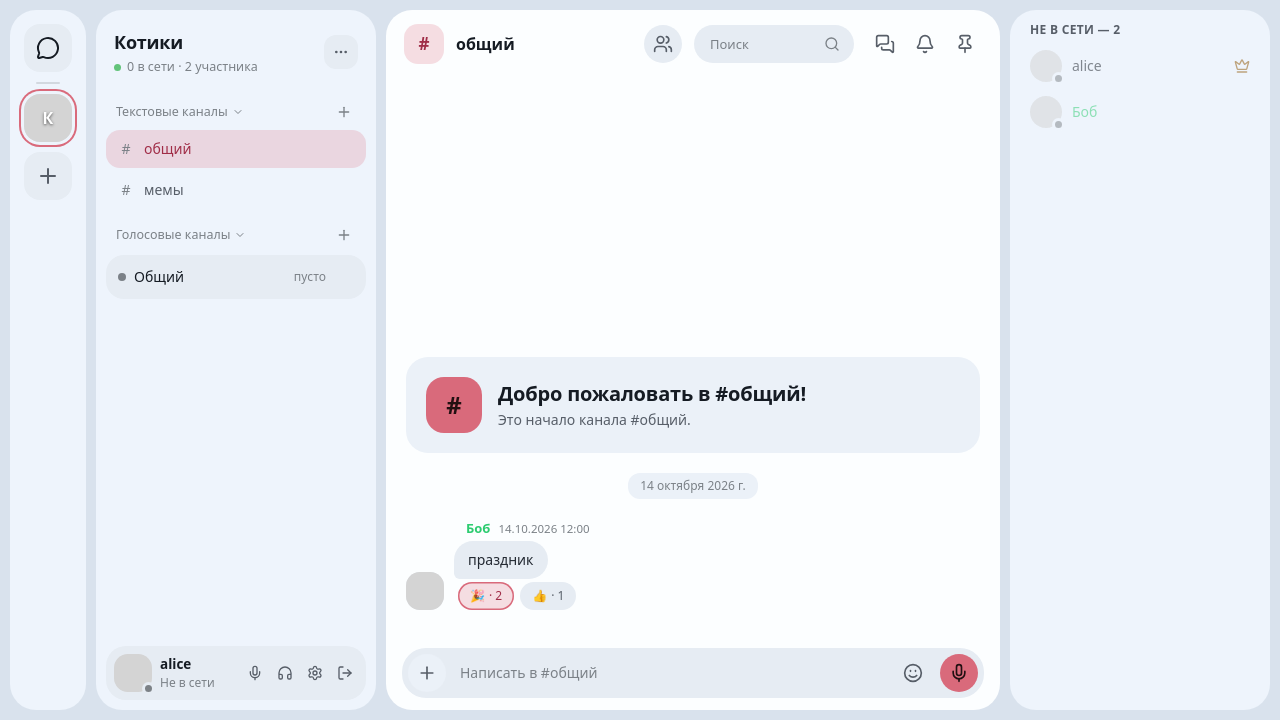
Test: reactions › opens the full picker from the menu, with the quick ones on top
The width and height of the screenshot is (1280, 720).
Check: the text "праздник" is shown, box x1=468 y1=550 x2=534 y2=570
Right-click the list item "праздник" at (498, 564), box x1=406 y1=519 x2=590 y2=610
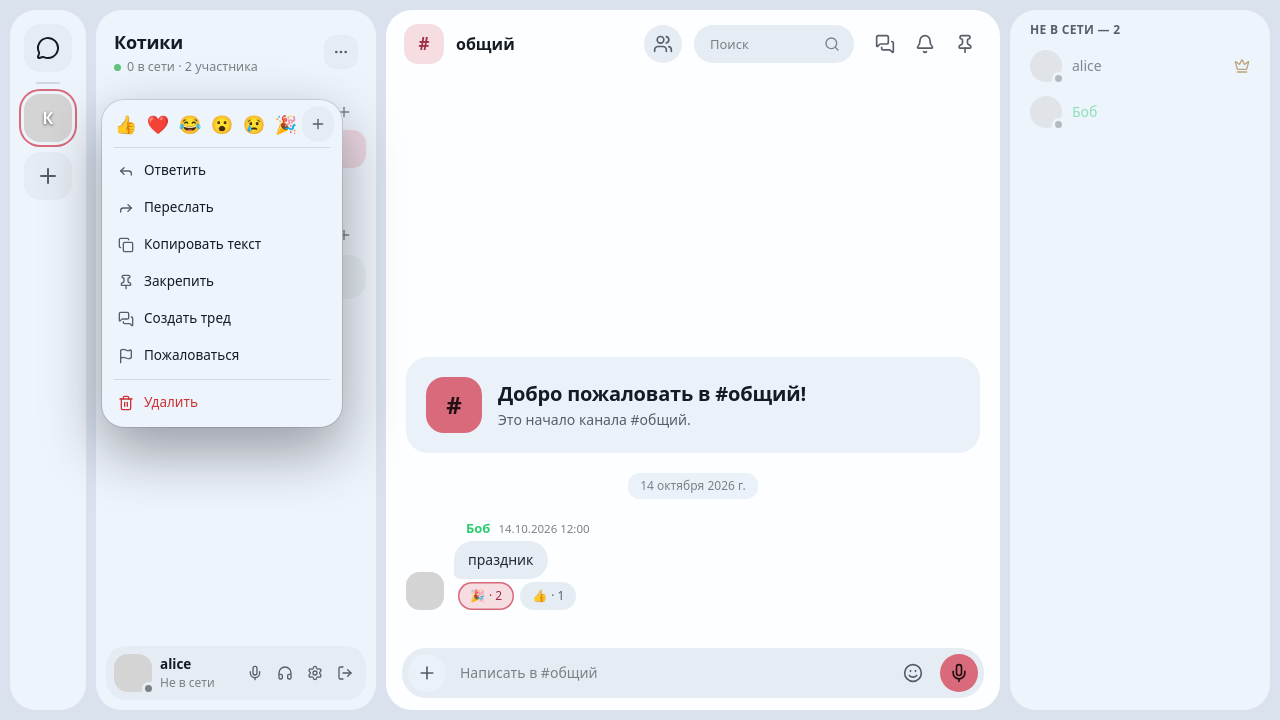
Click the menu item named "Добавить реакцию" at (318, 124), box x1=302 y1=106 x2=334 y2=142
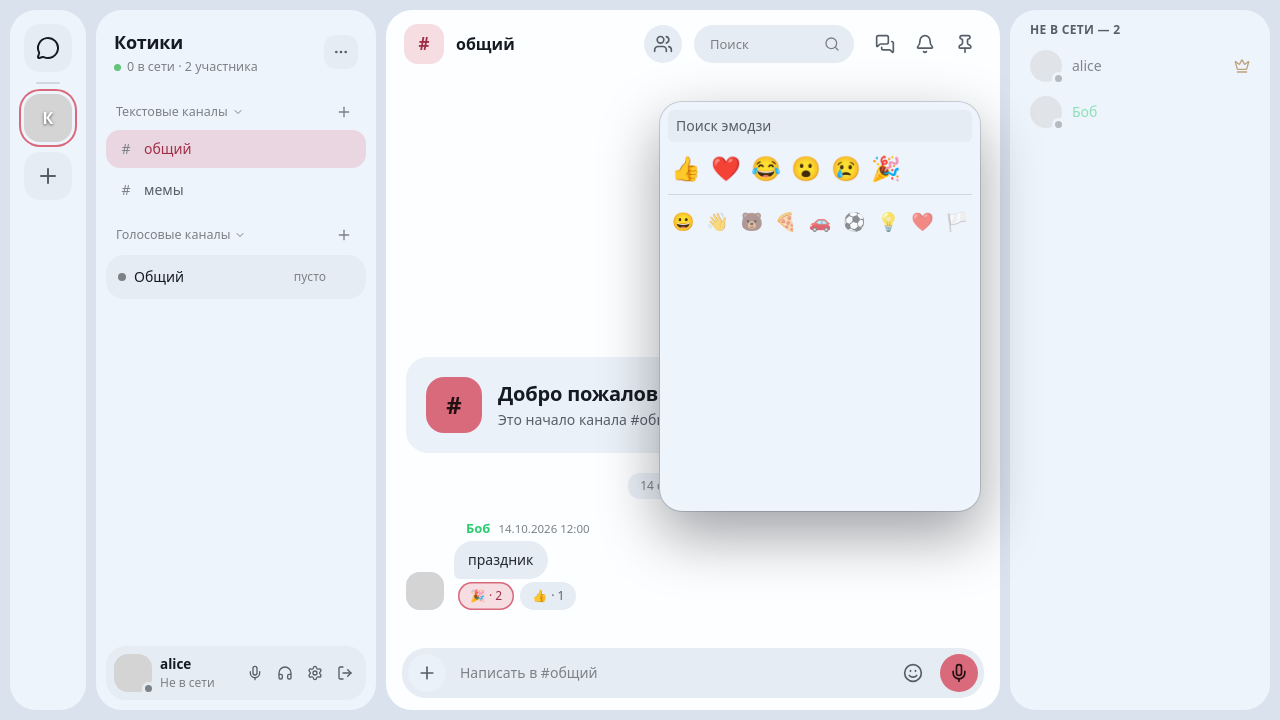
Check: the button named "Отреагировать: 😂" is shown, box x1=748 y1=150 x2=784 y2=186
Check: the menu is gone
